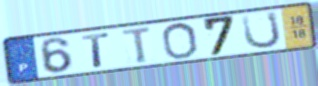6: (38, 35, 76, 76)
7: (201, 14, 238, 58)
O: (160, 21, 200, 61)
T: (120, 25, 154, 65), (80, 31, 111, 68)
U: (240, 9, 283, 50)
